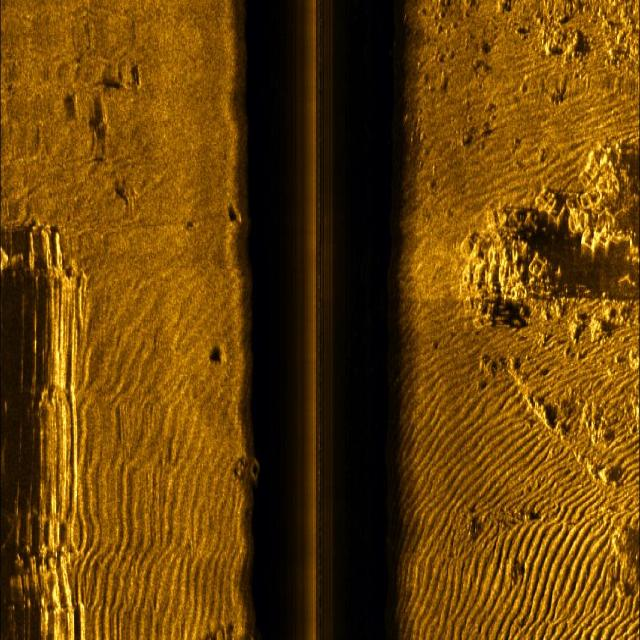artificial reef: (468, 129, 634, 325), (238, 438, 268, 488)
